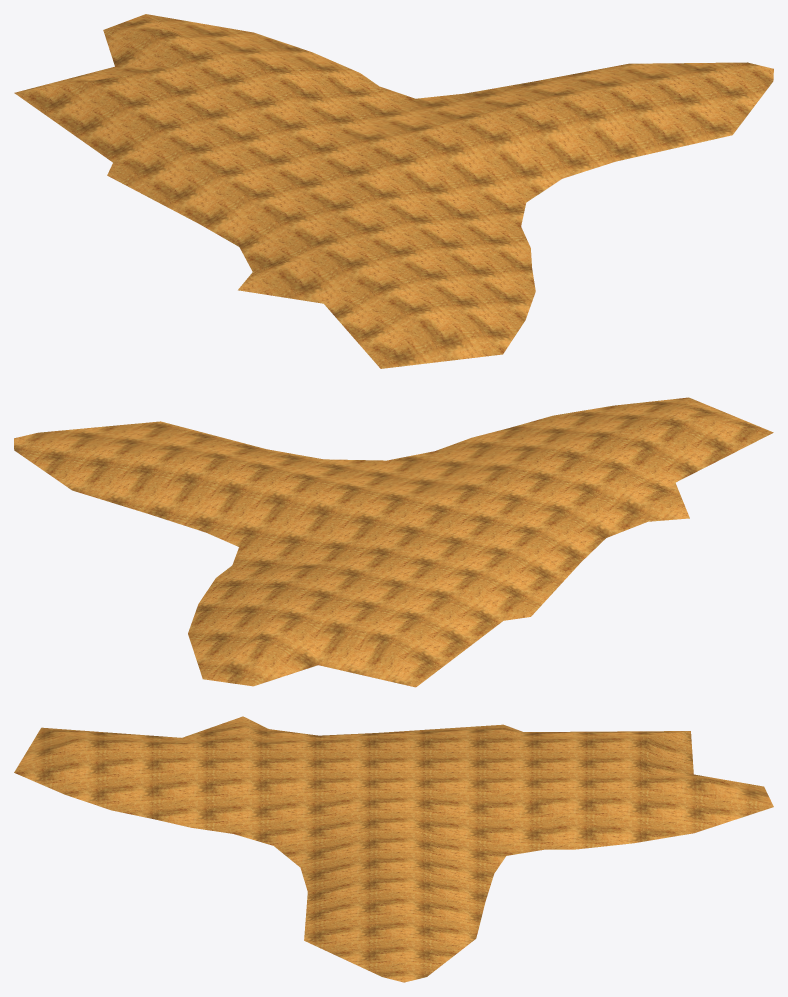
The picture shows the model from 3 angles, top to bottom: view 1: azimuth 30°, elevation 25°; view 2: azimuth 150°, elevation 25°; view 3: azimuth 270°, elevation 25°; orthographic projection. The views are drawn at different scales.
Visible parts, largest first — view 1: base003; view 2: base003; view 3: base003.
Boxes of the visible parts, box(x1,y1,x2,y2) form: base003: box(14, 14, 773, 368); base003: box(14, 397, 773, 687); base003: box(14, 716, 773, 982).
Size of the model in its own units: 206151 by 5291 by 248630.
Materials: 1 (1 with a texture image).
